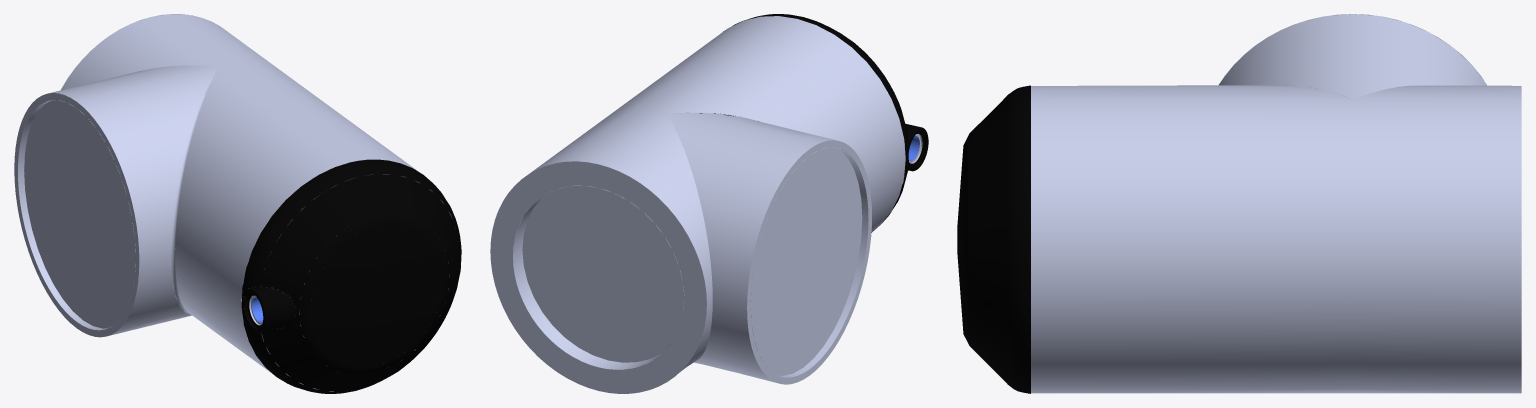
3 views of the same model, side by side, from view 1: azimuth 30°, elevation 25°; view 2: azimuth 150°, elevation 25°; view 3: azimuth 270°, elevation 25° (orthographic). The views are drawn at different scales.
Parts seen in each view (by area): view 1: FACE (×18); view 2: FACE (×13); view 3: FACE (×9).
Boxes of the visible parts, x1,y1,x2,y2 form: FACE (×18): (14,14,461,393); FACE (×13): (490,16,907,393); FACE (×9): (957,14,1521,393).
Size of the model in its own units: 0.161 by 0.139 by 0.2541.
